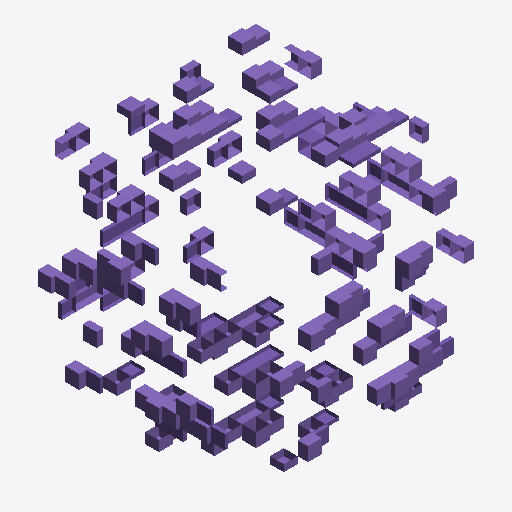
Isometric view (azimuth 45°, elevation 35.3°) of a Minecraft model made of 192 cuboids, textured from the same repository.
Visible parts, largest first — element 85, element 21, element 53, element 181, element 42, element 102, element 114, element 178, element 104, element 106, element 18, element 6 (+28 smaller).
Part boxes in pixels (x1,y1,x2,y2): element 85: (100, 206, 144, 247); element 21: (228, 344, 283, 377); element 53: (278, 108, 324, 142); element 181: (325, 182, 369, 223); element 42: (159, 128, 186, 159); element 102: (325, 288, 352, 319); element 114: (367, 312, 394, 343); element 178: (353, 176, 380, 207); element 104: (395, 248, 421, 279); element 106: (298, 320, 324, 351); element 18: (242, 368, 269, 399); element 6: (242, 416, 269, 447).
Bounding box in the file's own units: 18 × 18 × 18.